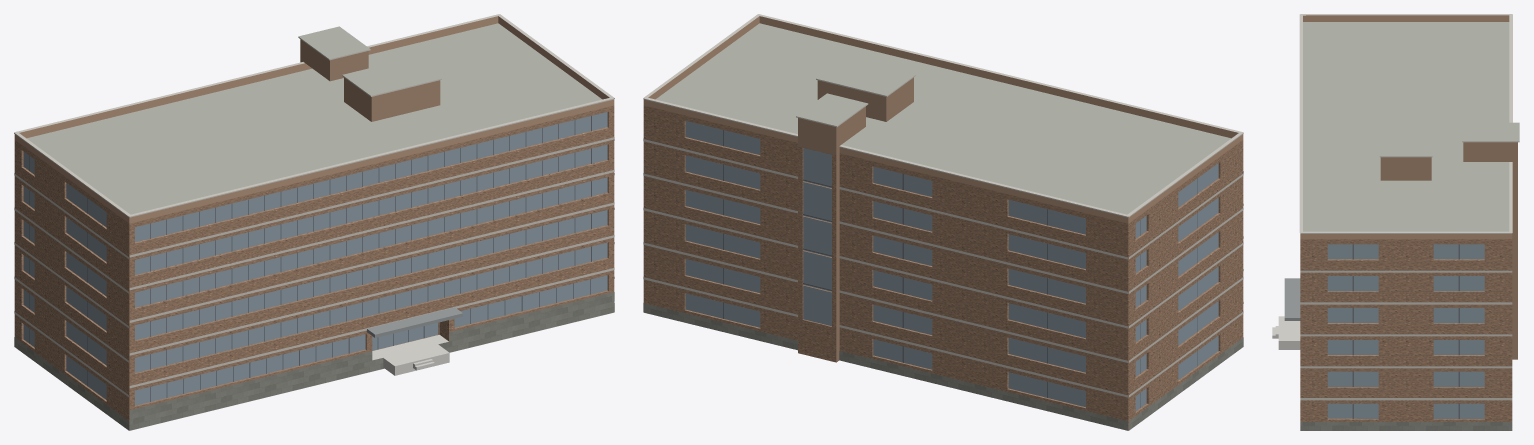
The picture shows the model from 3 angles, left to right: view 1: azimuth 30°, elevation 25°; view 2: azimuth 150°, elevation 25°; view 3: azimuth 270°, elevation 25°; orthographic projection. The views are drawn at different scales.
Visible parts, largest first — view 1: b23__wall, b23__glass, b23__roof, b23__trim, b23__base, b23__parapet, b23__wall2, b23__frame, b23__entranceStair, b23__canopy; view 2: b23__wall, b23__roof, b23__glass, b23__trim, b23__parapet, b23__base, b23__wall2, b23__frame; view 3: b23__roof, b23__wall, b23__glass, b23__trim, b23__wall2, b23__parapet, b23__base, b23__entranceStair, b23__canopy, b23__frame.
Boxes of the visible parts, x1,y1,x2,y2 form: b23__wall: (14, 105, 614, 430); b23__glass: (23, 112, 607, 405); b23__roof: (27, 23, 613, 430); b23__trim: (14, 14, 614, 396); b23__base: (14, 292, 614, 430); b23__parapet: (14, 16, 614, 223); b23__wall2: (300, 39, 440, 121); b23__frame: (29, 116, 591, 401); b23__entranceStair: (372, 335, 449, 375); b23__canopy: (366, 307, 462, 337); b23__wall: (643, 105, 1243, 430); b23__roof: (655, 23, 1230, 214); b23__glass: (685, 121, 1218, 411); b23__trim: (643, 14, 1243, 397); b23__parapet: (643, 16, 1243, 223); b23__base: (643, 303, 1243, 430); b23__wall2: (798, 77, 913, 362); b23__frame: (723, 130, 1197, 407); b23__roof: (1303, 22, 1519, 231); b23__wall: (1300, 239, 1512, 421); b23__glass: (1327, 244, 1484, 418); b23__trim: (1299, 14, 1519, 400); b23__wall2: (1380, 142, 1517, 359); b23__parapet: (1300, 15, 1512, 239); b23__base: (1300, 422, 1512, 430); b23__entranceStair: (1272, 316, 1300, 349); b23__canopy: (1284, 278, 1300, 320); b23__frame: (1352, 244, 1459, 418).
Size of the model in its own units: 53.04 by 24.77 by 25.29.
11 materials, 2 textured.
